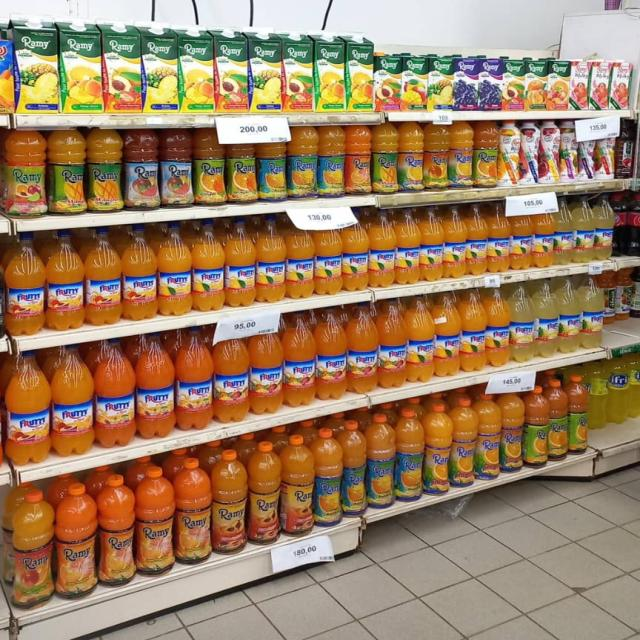ifri_plastique: (604, 368, 630, 427)
ramy_carton: (9, 19, 64, 113), (143, 27, 186, 115), (102, 21, 143, 113), (60, 15, 98, 114), (312, 33, 350, 112), (214, 31, 249, 112), (281, 31, 310, 119), (249, 30, 281, 109), (181, 31, 210, 117), (348, 36, 372, 113), (398, 51, 428, 110), (372, 55, 401, 113), (453, 53, 481, 109), (500, 54, 527, 110), (525, 55, 551, 111), (479, 53, 504, 109), (548, 57, 574, 110), (428, 50, 449, 113), (0, 70, 15, 107)
ramy_plastique: (9, 489, 57, 609), (4, 350, 52, 466), (53, 483, 100, 600), (49, 344, 95, 456), (0, 129, 56, 219), (92, 338, 136, 448), (133, 466, 175, 576), (95, 476, 137, 586), (3, 234, 47, 334), (172, 458, 213, 564), (134, 332, 175, 438), (45, 232, 86, 331), (174, 328, 213, 431), (209, 450, 247, 555), (83, 228, 123, 326), (246, 443, 282, 546), (279, 436, 315, 538), (155, 223, 193, 318), (120, 226, 157, 321), (211, 326, 248, 421), (280, 310, 316, 406), (310, 428, 344, 528), (248, 320, 284, 414), (85, 127, 124, 213), (189, 221, 225, 314), (120, 127, 158, 211), (365, 413, 397, 511), (315, 304, 348, 398), (223, 218, 256, 310), (346, 302, 379, 393), (393, 408, 424, 504), (338, 420, 368, 518), (402, 292, 435, 380), (422, 402, 452, 498), (255, 216, 287, 306), (376, 296, 408, 386), (284, 213, 316, 302), (448, 398, 478, 491), (159, 128, 193, 208), (313, 212, 344, 298), (474, 392, 503, 482), (340, 211, 371, 295), (431, 287, 461, 373), (286, 125, 318, 202), (368, 208, 398, 290), (522, 385, 550, 471), (496, 390, 524, 476), (457, 288, 487, 367), (506, 282, 536, 359), (394, 206, 422, 287), (440, 202, 468, 281), (418, 204, 445, 285), (484, 286, 512, 363), (316, 124, 345, 198), (344, 123, 373, 196), (255, 138, 287, 204), (553, 276, 581, 350), (396, 120, 424, 192), (422, 120, 450, 192), (226, 141, 257, 205), (472, 120, 499, 191), (464, 201, 489, 277), (485, 201, 510, 275), (448, 120, 474, 190), (571, 189, 595, 264), (566, 374, 589, 452), (508, 202, 533, 271), (532, 199, 556, 268), (586, 374, 610, 432), (534, 369, 557, 391)
